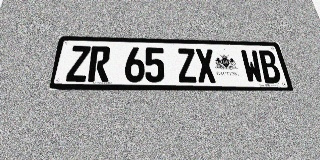5: (145, 47, 165, 82)
6: (125, 47, 145, 82)
B: (257, 50, 282, 83)
R: (87, 46, 111, 82)
W: (240, 50, 265, 83)
X: (195, 49, 217, 83)
Z: (65, 46, 91, 82), (176, 48, 198, 83)
